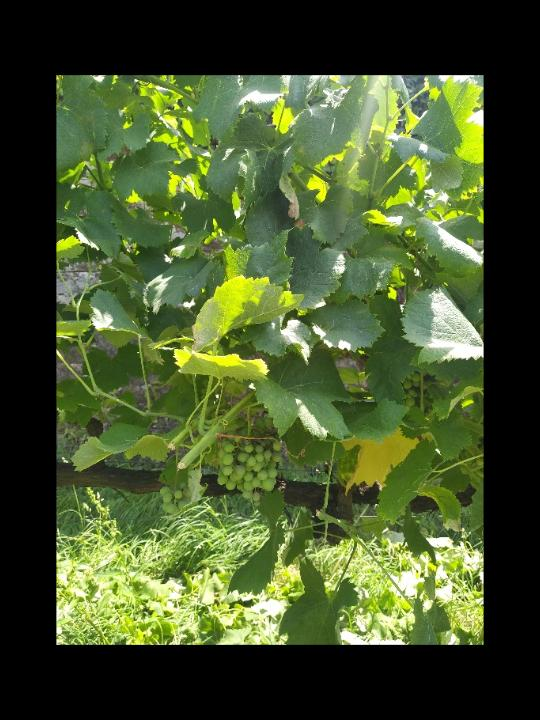grape: (217, 415, 283, 508)
